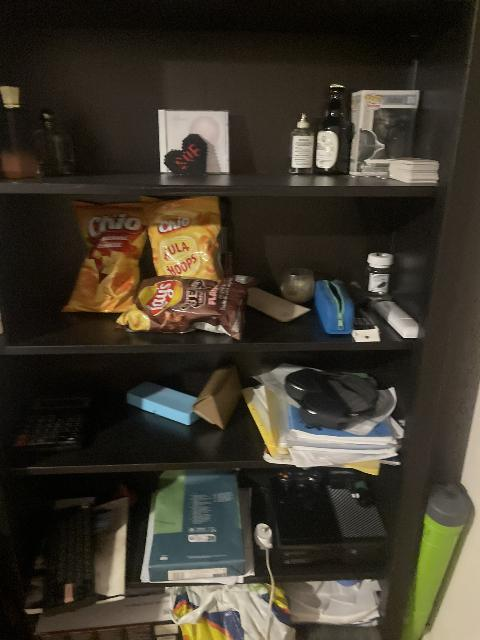Chio Cascaval 125g: (59, 200, 155, 316)
Chio Hula Hoops Cheese 70g: (145, 196, 224, 284)
Lays Beef Grilled Ribs 125g: (118, 274, 253, 337)
